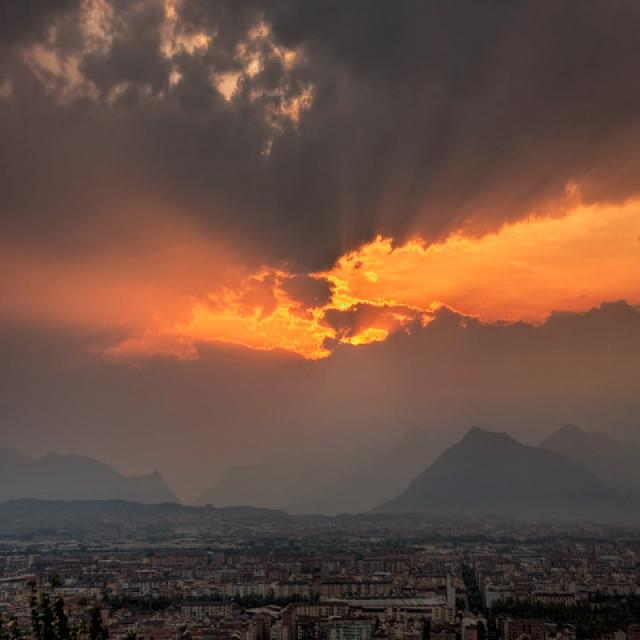no_fire: (43, 157, 640, 409)
